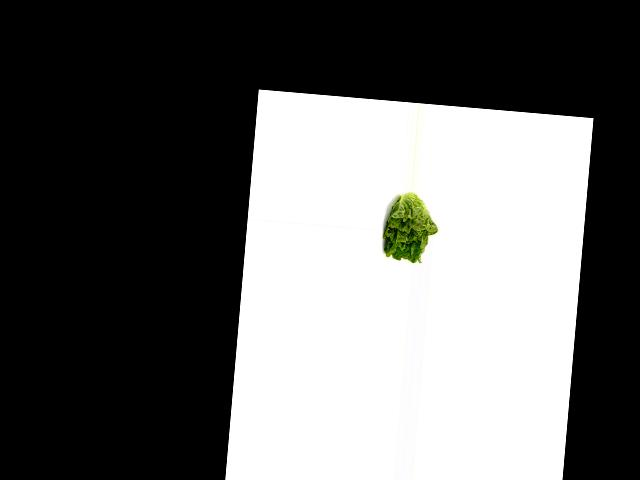lettuce: (377, 190, 439, 264)
